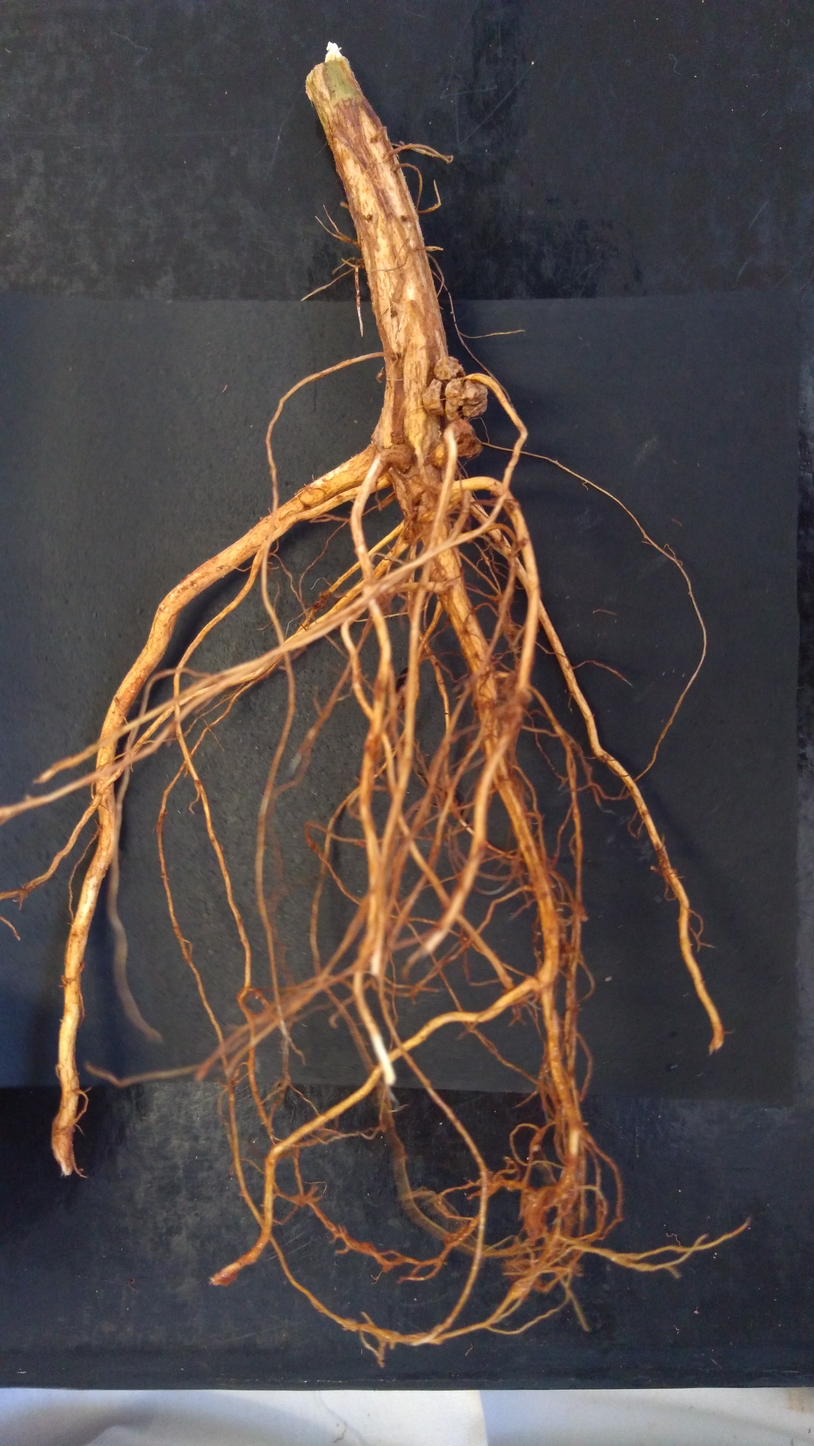nodule: (444, 376, 489, 421), (523, 1187, 559, 1237), (450, 418, 483, 458), (421, 378, 449, 417), (433, 356, 468, 386), (386, 443, 418, 475), (416, 490, 438, 523), (428, 435, 449, 469), (505, 684, 536, 706), (402, 517, 421, 546), (389, 430, 404, 445), (317, 589, 331, 604)
